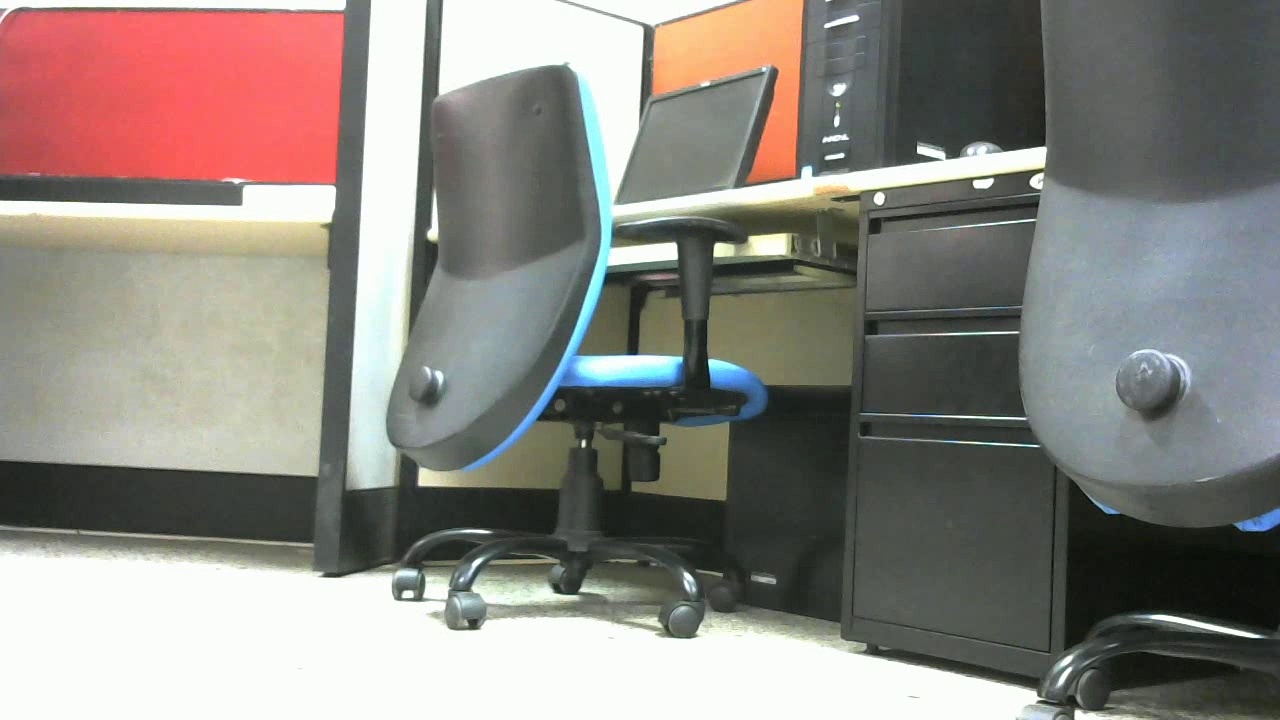chair: (383, 43, 773, 641)
